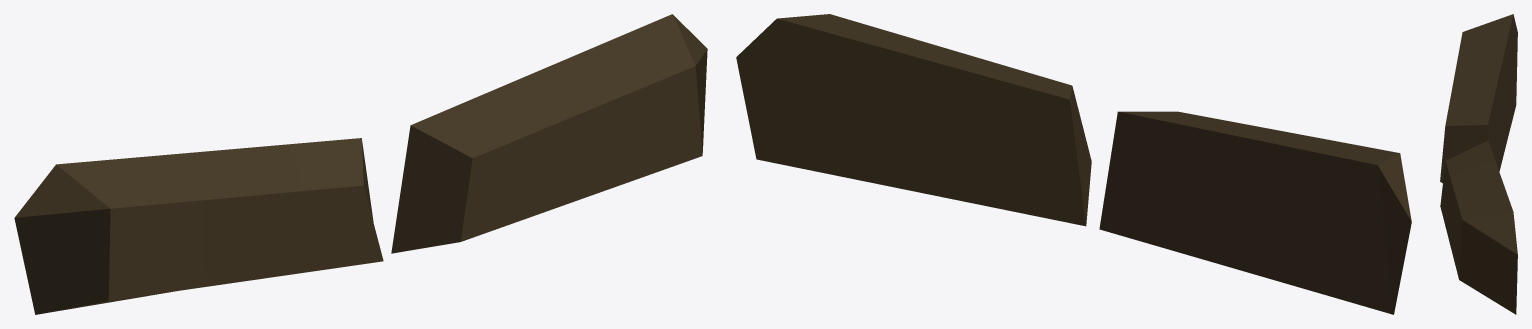
Rendered from Chr_Eyebrow_Male_03_Static.fbx.
3 renders of one model, left to right at view 1: azimuth 30°, elevation 25°; view 2: azimuth 150°, elevation 25°; view 3: azimuth 270°, elevation 25°, orthographic. The views are drawn at different scales.
Visible parts, largest first — view 1: Chr_Eyebrow_Male_03_Static; view 2: Chr_Eyebrow_Male_03_Static; view 3: Chr_Eyebrow_Male_03_Static.
Part boxes in pixels (left/top/right/bottom): Chr_Eyebrow_Male_03_Static: left=14, top=14, right=707, bottom=314; Chr_Eyebrow_Male_03_Static: left=736, top=14, right=1411, bottom=314; Chr_Eyebrow_Male_03_Static: left=1440, top=14, right=1517, bottom=314.
Size of the model in its own units: 0.2187 by 0.0463 by 0.0324.
